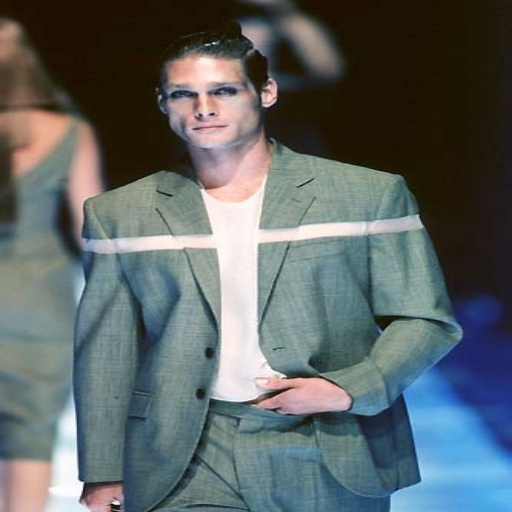hand: (258, 364, 359, 418), (72, 482, 123, 509)
